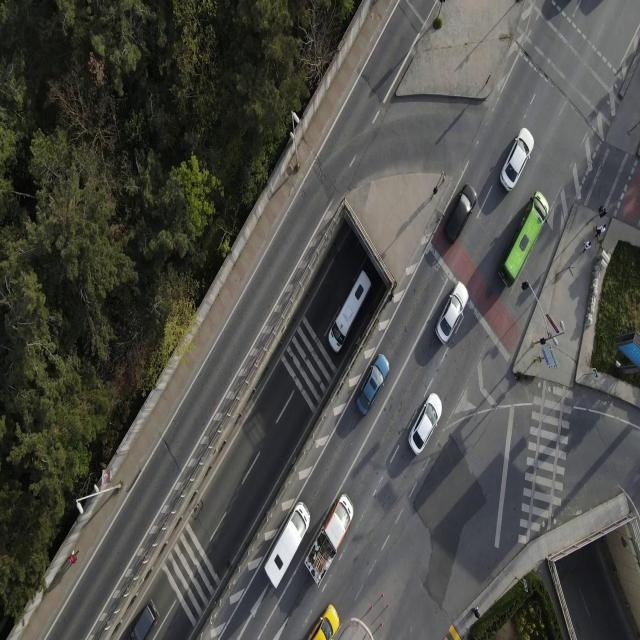p3rson: (592, 223, 607, 241), (580, 239, 592, 255)
